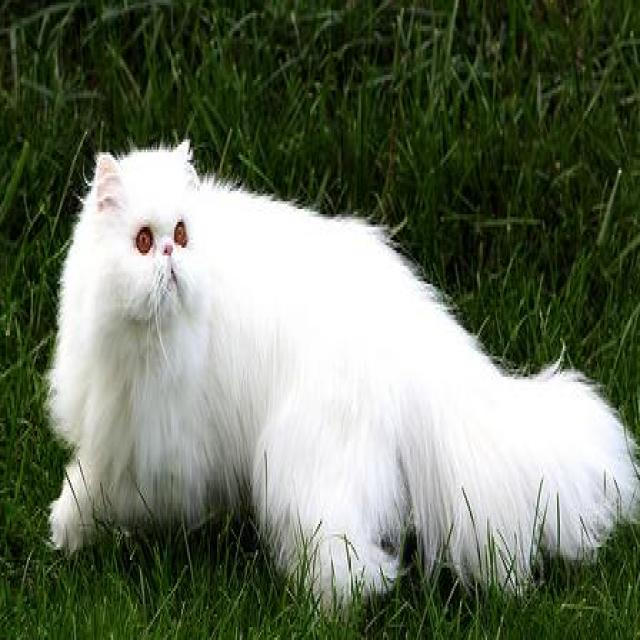Persian: (43, 137, 640, 624)
